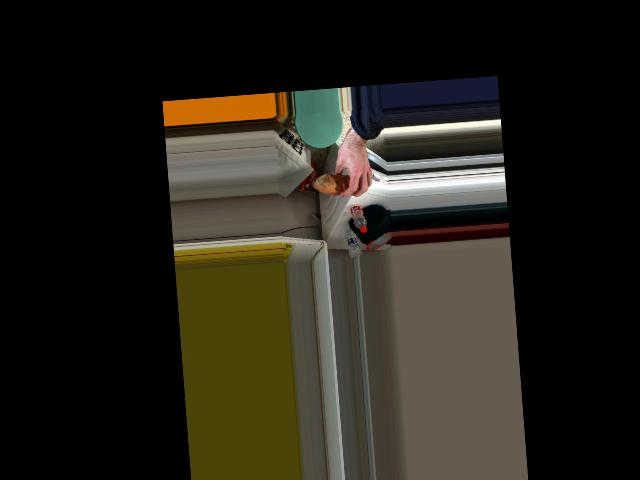sweet_potato: (323, 167, 357, 194)
